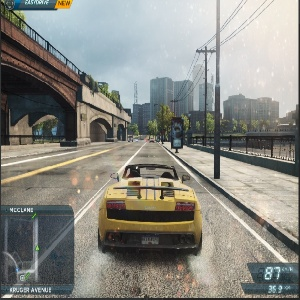ad: (170, 117, 184, 153)
building: (224, 93, 280, 133), (150, 77, 175, 138), (200, 81, 215, 134), (175, 79, 194, 117), (135, 99, 150, 137)
electrical pole: (212, 1, 224, 182), (197, 46, 213, 151)
tree: (221, 117, 260, 135), (157, 106, 173, 142), (204, 110, 215, 138), (128, 121, 139, 139), (148, 120, 157, 140)
